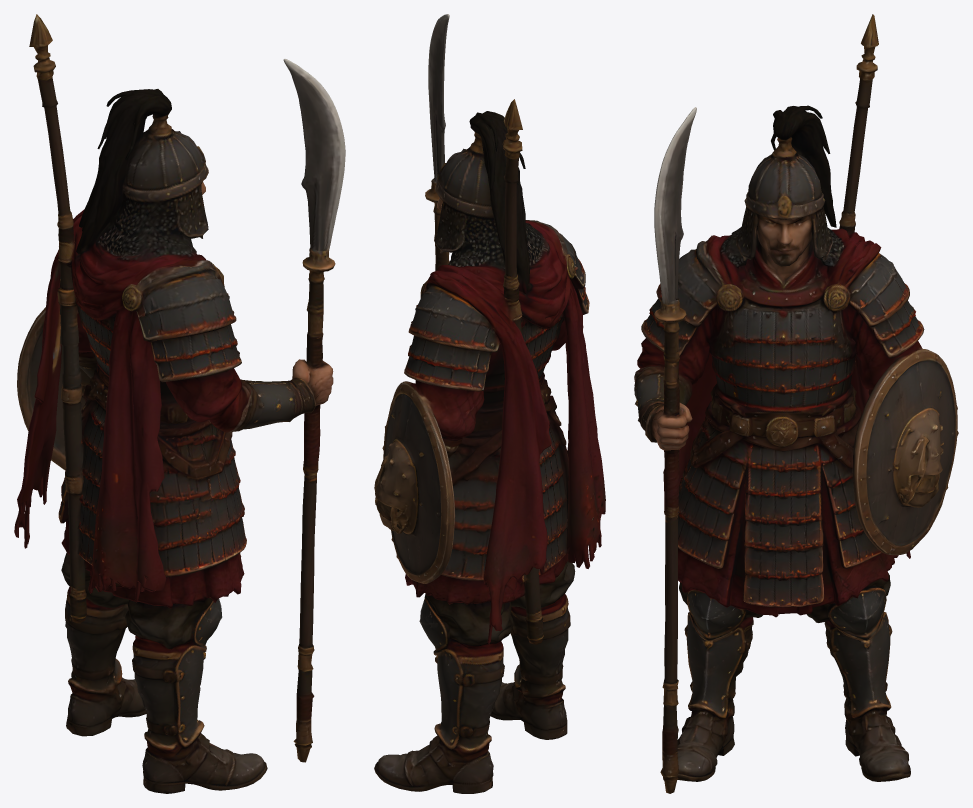
The model's file is vanguard_T6-tripo.glb.
3 renders of one model, left to right at view 1: azimuth 30°, elevation 25°; view 2: azimuth 150°, elevation 25°; view 3: azimuth 270°, elevation 25°, orthographic. The views are drawn at different scales.
Visible parts, largest first — view 1: tripo_node_93272407-de67-40be-9bd7-956846f5c2a6; view 2: tripo_node_93272407-de67-40be-9bd7-956846f5c2a6; view 3: tripo_node_93272407-de67-40be-9bd7-956846f5c2a6.
Part boxes in pixels (left/top/right/bottom): tripo_node_93272407-de67-40be-9bd7-956846f5c2a6: left=14, top=14, right=345, bottom=793; tripo_node_93272407-de67-40be-9bd7-956846f5c2a6: left=374, top=14, right=605, bottom=793; tripo_node_93272407-de67-40be-9bd7-956846f5c2a6: left=634, top=14, right=958, bottom=793.
Size of the model in its own units: 0.3231 by 1 by 0.4131.
Materials: 1 (1 with a texture image).
